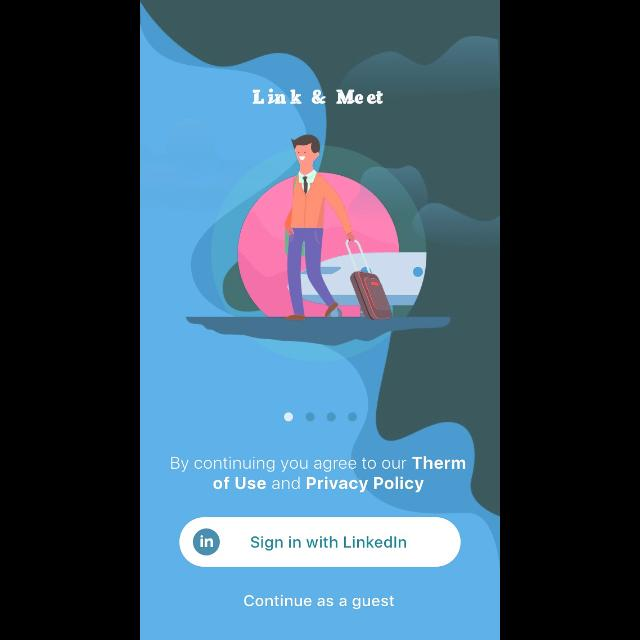backgroundimage: (141, 2, 501, 640)
image: (186, 135, 452, 347)
pageindicator: (284, 412, 358, 422)
text: (172, 456, 466, 494), (243, 594, 394, 610), (252, 89, 384, 105)
textbutton: (180, 518, 460, 566)
